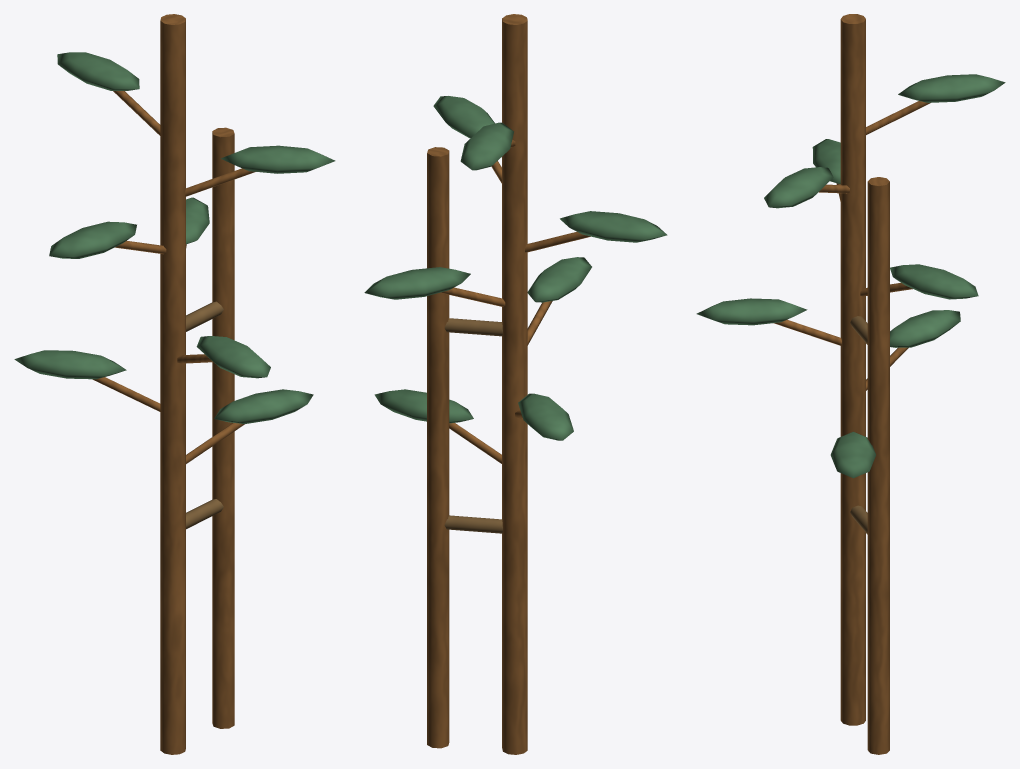
File: Furn_Sapling.fbx
3 renders of one model, left to right at view 1: azimuth 30°, elevation 25°; view 2: azimuth 150°, elevation 25°; view 3: azimuth 270°, elevation 25°, orthographic. The views are drawn at different scales.
Parts seen in each view (by area): view 1: Furn_Sapling_Mesh; view 2: Furn_Sapling_Mesh; view 3: Furn_Sapling_Mesh.
Part boxes in pixels (x1=…): Furn_Sapling_Mesh: x1=14, y1=14, x2=335, y2=754; Furn_Sapling_Mesh: x1=364, y1=14, x2=667, y2=754; Furn_Sapling_Mesh: x1=696, y1=14, x2=1005, y2=754.
Size of the model in its own units: 0.6 by 1.5 by 0.6.
Materials: 3 (3 with a texture image).
